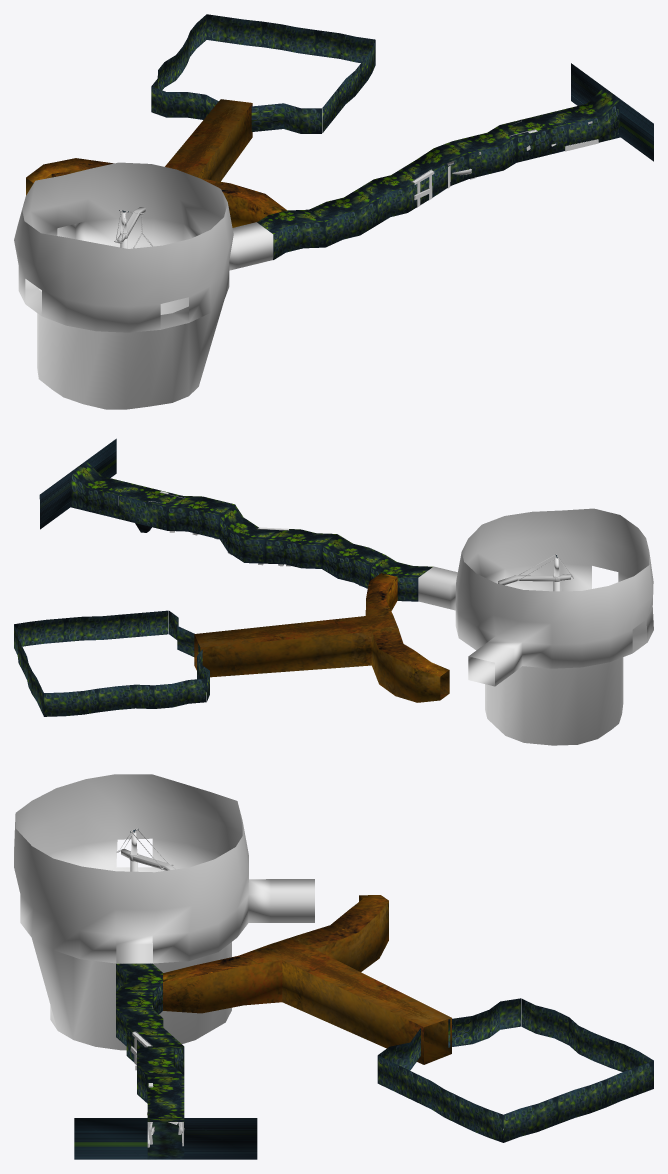
Rendered from try1.fbx.
3 renders of one model, top to bottom at view 1: azimuth 30°, elevation 25°; view 2: azimuth 150°, elevation 25°; view 3: azimuth 270°, elevation 25°, orthographic. The views are drawn at different scales.
Parts seen in each view (by area): view 1: hall2.011, hall2.009, CuevaPuzzle4, hall2.019; view 2: hall2.011, hall2.009, hall2.019, CuevaPuzzle4; view 3: hall2.011, hall2.019, hall2.009, CuevaPuzzle4.
Part boxes in pixels (left/top/right/bottom): hall2.011: left=14, top=162, right=273, bottom=409; hall2.009: left=257, top=63, right=653, bottom=259; CuevaPuzzle4: left=151, top=14, right=375, bottom=133; hall2.019: left=26, top=99, right=286, bottom=227; hall2.011: left=418, top=508, right=653, bottom=745; hall2.009: left=39, top=438, right=432, bottom=601; hall2.019: left=194, top=573, right=449, bottom=702; CuevaPuzzle4: left=14, top=610, right=209, bottom=716; hall2.011: left=14, top=774, right=314, bottom=1050; hall2.019: left=163, top=895, right=451, bottom=1064; hall2.009: left=74, top=963, right=257, bottom=1159; CuevaPuzzle4: left=377, top=998, right=653, bottom=1142.
Bounding box in the file's own units: 17467 × 4937 × 14651.
